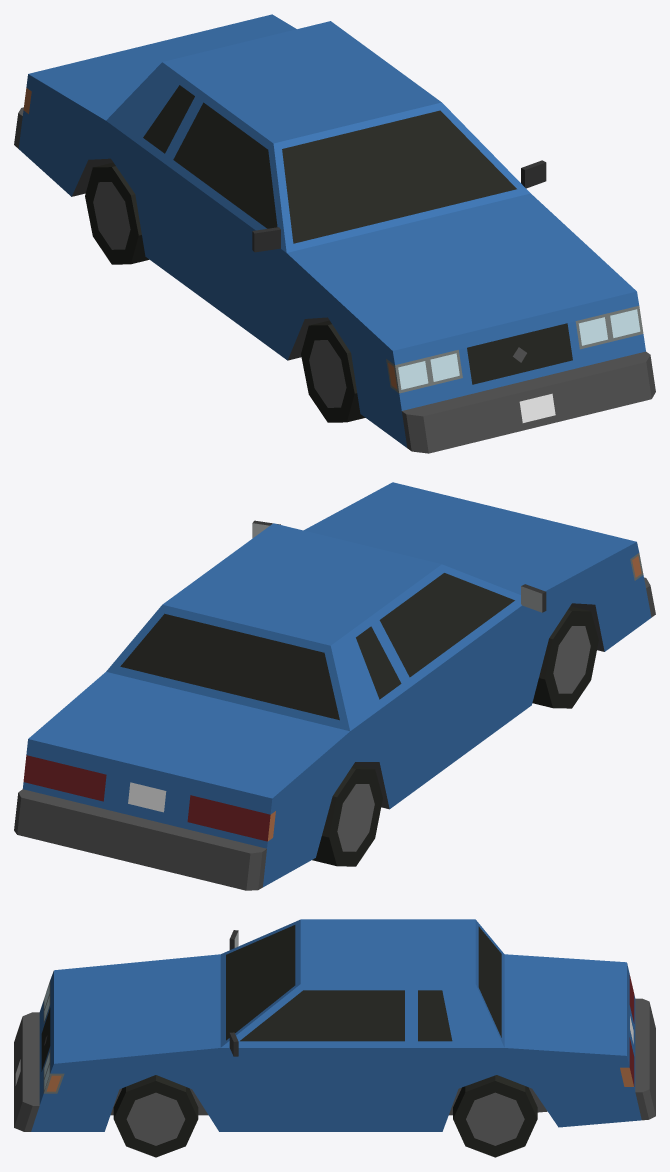
Rendered from Veh_Coupe_03_Blue.obj.
The picture shows the model from 3 angles, top to bottom: view 1: azimuth 30°, elevation 25°; view 2: azimuth 150°, elevation 25°; view 3: azimuth 270°, elevation 25°; orthographic projection. The views are drawn at different scales.
Size of the model in its own units: 1.14 by 0.7543 by 2.76.
